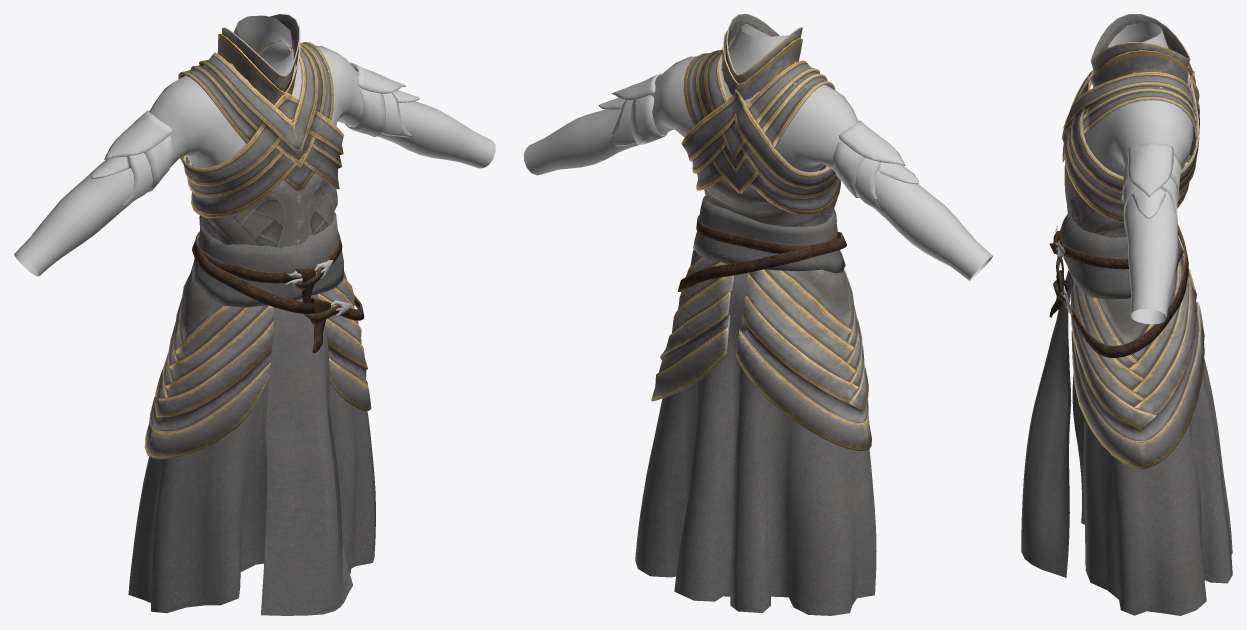
The model's file is rivendell_torso_heavy_tier3_silvergoldb.fbx.
3 views of the same model, side by side, from view 1: azimuth 30°, elevation 25°; view 2: azimuth 150°, elevation 25°; view 3: azimuth 270°, elevation 25° (orthographic). The views are drawn at different scales.
Parts seen in each view (by area): view 1: rivendell_torso_heavy_tier3_silvergoldb.3, rivendell_torso_heavy_tier3_silvergoldb.0, rivendell_torso_heavy_tier3_silvergoldb.1, rivendell_torso_heavy_tier3_silvergoldb.5, rivendell_torso_heavy_tier3_silvergoldb.2, rivendell_torso_heavy_tier3_silvergoldb.4; view 2: rivendell_torso_heavy_tier3_silvergoldb.0, rivendell_torso_heavy_tier3_silvergoldb.2, rivendell_torso_heavy_tier3_silvergoldb.1, rivendell_torso_heavy_tier3_silvergoldb.5, rivendell_torso_heavy_tier3_silvergoldb.3, rivendell_torso_heavy_tier3_silvergoldb.4; view 3: rivendell_torso_heavy_tier3_silvergoldb.0, rivendell_torso_heavy_tier3_silvergoldb.2, rivendell_torso_heavy_tier3_silvergoldb.3, rivendell_torso_heavy_tier3_silvergoldb.1, rivendell_torso_heavy_tier3_silvergoldb.5, rivendell_torso_heavy_tier3_silvergoldb.4.
Part boxes in pixels (x1,y1,x2,y2): rivendell_torso_heavy_tier3_silvergoldb.3: (192,212,364,615); rivendell_torso_heavy_tier3_silvergoldb.0: (128,379,375,613); rivendell_torso_heavy_tier3_silvergoldb.1: (178,14,343,247); rivendell_torso_heavy_tier3_silvergoldb.5: (14,15,495,276); rivendell_torso_heavy_tier3_silvergoldb.2: (144,264,371,459); rivendell_torso_heavy_tier3_silvergoldb.4: (91,62,419,208); rivendell_torso_heavy_tier3_silvergoldb.0: (635,273,876,615); rivendell_torso_heavy_tier3_silvergoldb.2: (651,249,871,451); rivendell_torso_heavy_tier3_silvergoldb.1: (681,14,840,226); rivendell_torso_heavy_tier3_silvergoldb.5: (524,23,992,280); rivendell_torso_heavy_tier3_silvergoldb.3: (677,196,846,291); rivendell_torso_heavy_tier3_silvergoldb.4: (598,73,918,209); rivendell_torso_heavy_tier3_silvergoldb.0: (1072,359,1232,615); rivendell_torso_heavy_tier3_silvergoldb.2: (1071,250,1204,469); rivendell_torso_heavy_tier3_silvergoldb.3: (1021,214,1188,577); rivendell_torso_heavy_tier3_silvergoldb.1: (1062,14,1199,237); rivendell_torso_heavy_tier3_silvergoldb.5: (1083,21,1193,324); rivendell_torso_heavy_tier3_silvergoldb.4: (1120,143,1181,234).
Bounding box in the file's own units: 1.27 × 0.5129 × 1.45.
